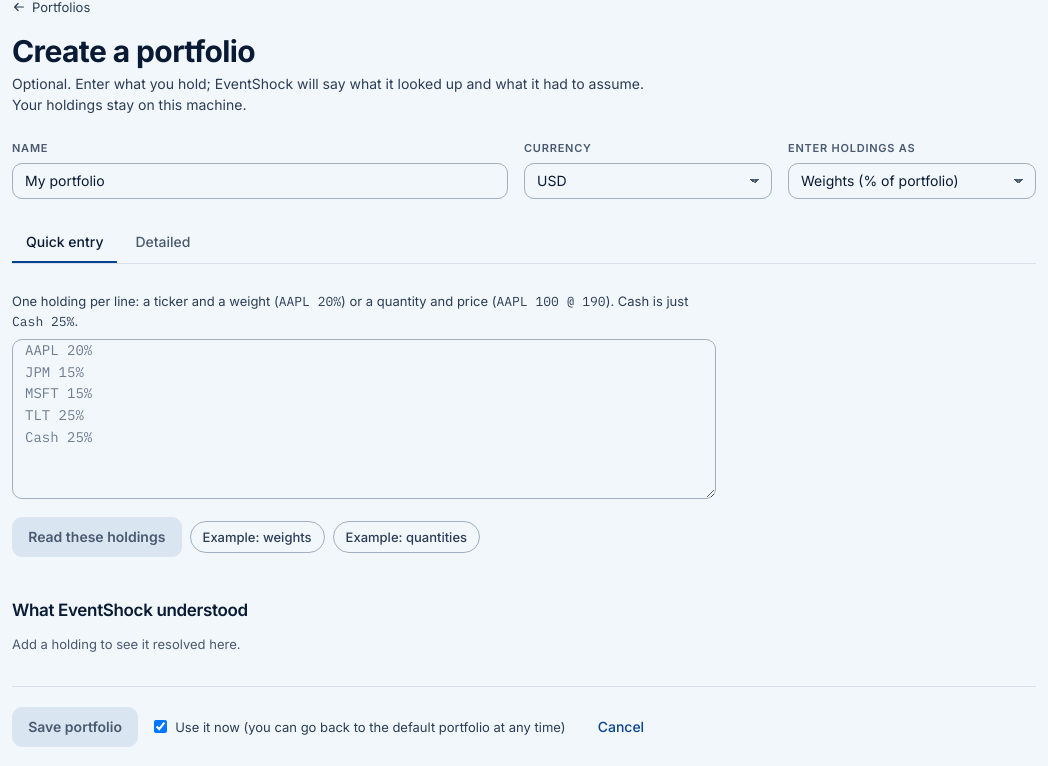
Test: portfolio editor › reads quick text into the detailed rows and shows what was understood
The width and height of the screenshot is (1048, 766).
Type "AAPL 60%" into the text box named "Holdings, one per line". click: (364, 419)
box: top-left (12, 339), bottom-right (716, 499)
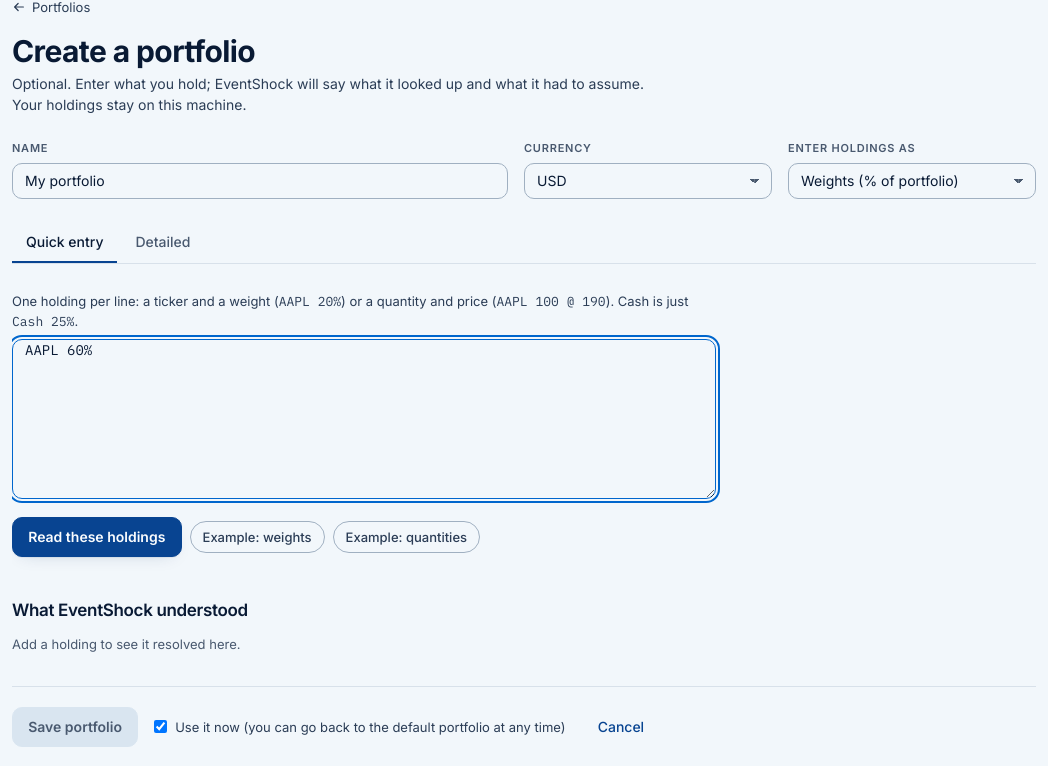
Click the button "Read these holdings". click: (97, 537)
box: top-left (12, 517), bottom-right (182, 557)
(page scrolled)
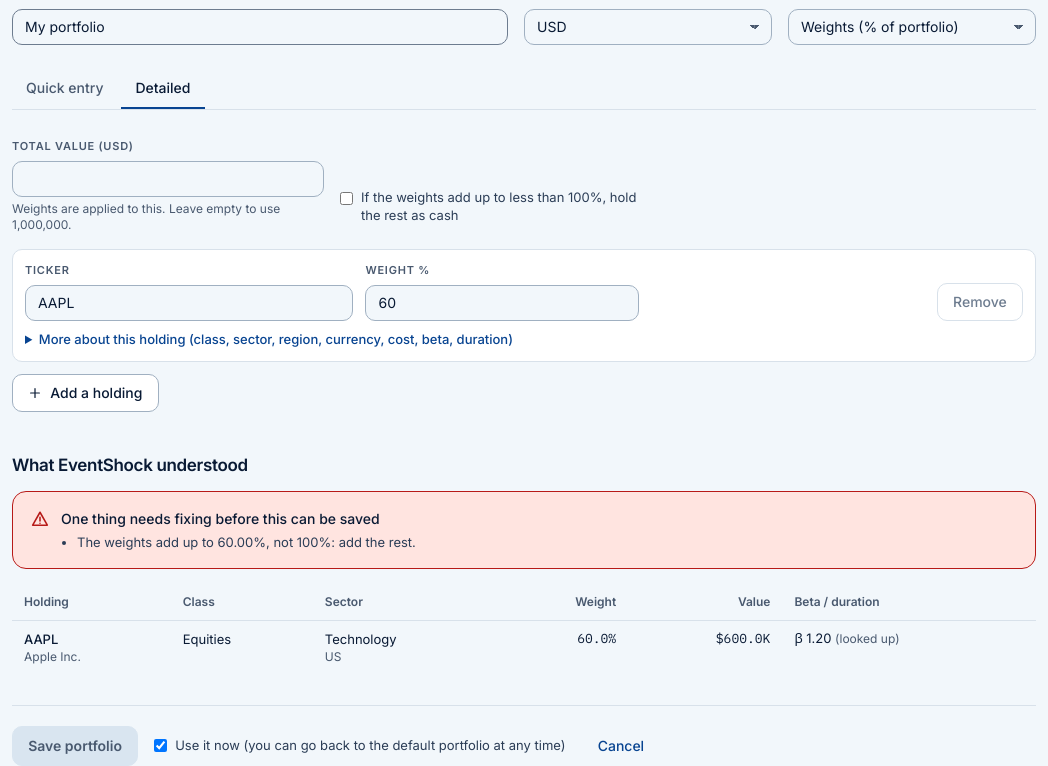
expect the button "Save portfolio" is disabled: met, box top-left (12, 726), bottom-right (138, 765)
expect the field named "Ticker 1" holds "AAPL": met, box top-left (25, 285), bottom-right (354, 321)
expect the list item "The weights add up to 60.00%, not 100%: add the rest." is shown: met, box top-left (77, 534), bottom-right (416, 550)
